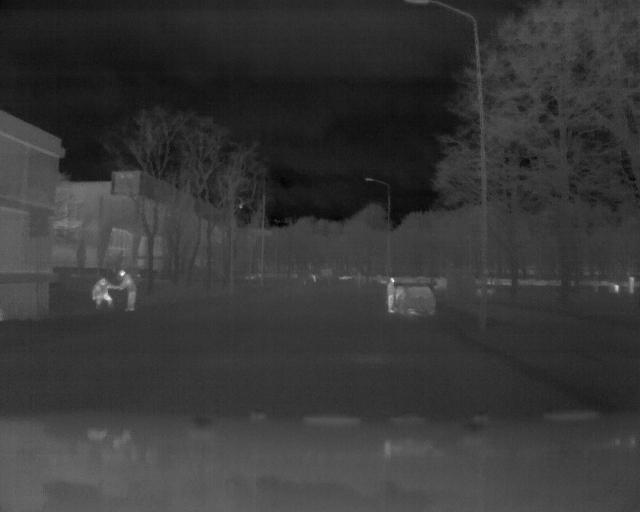car: (394, 281, 439, 319)
person: (115, 268, 141, 314), (86, 277, 118, 313), (379, 274, 400, 315)
